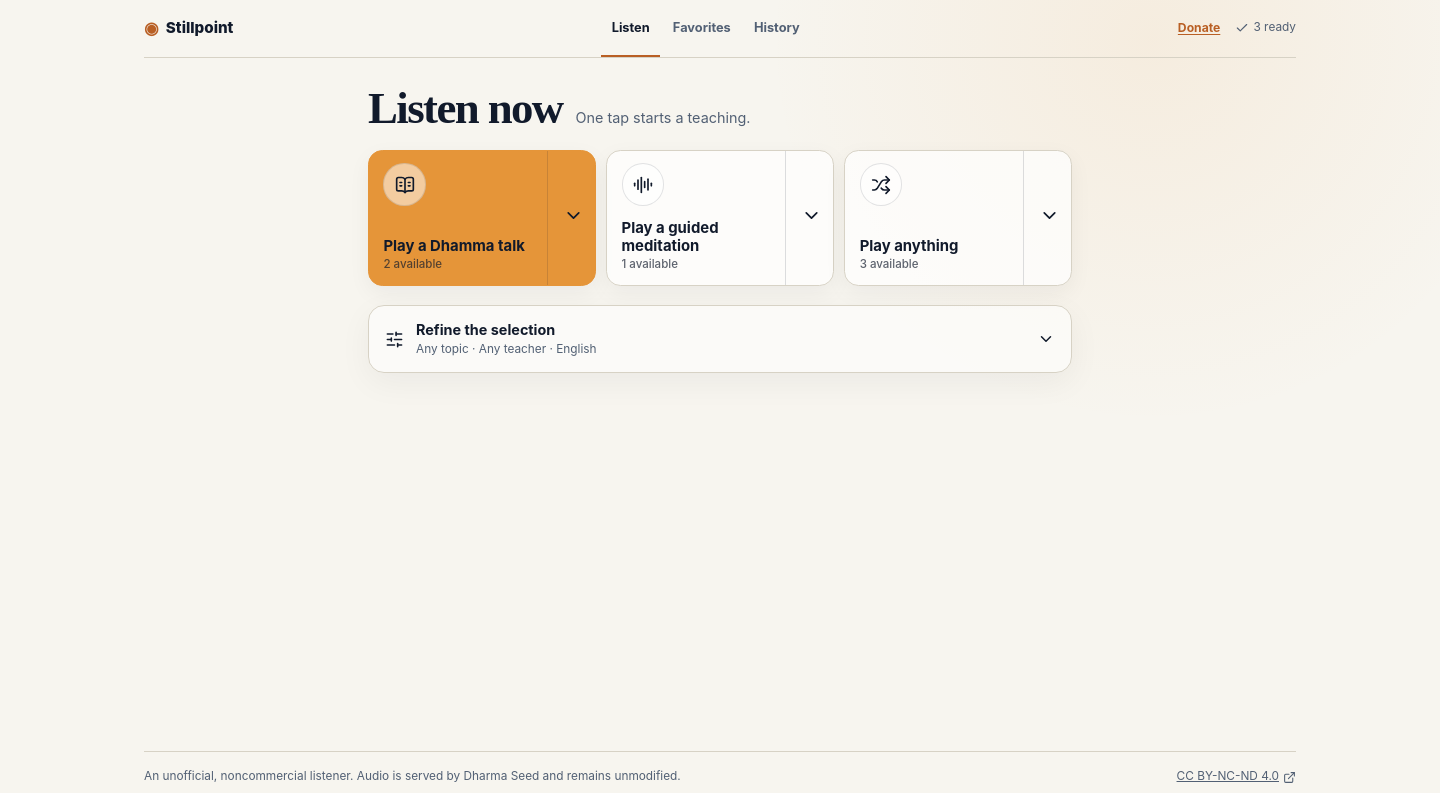
Test: ListenerApp › R6: keeps one-tap playback and favorites working when storage is full
This screenshot has width=1440, height=793.
Click the button "Play a Dhamma talk 2 available".
click(458, 218)  # box [369,151,547,285]
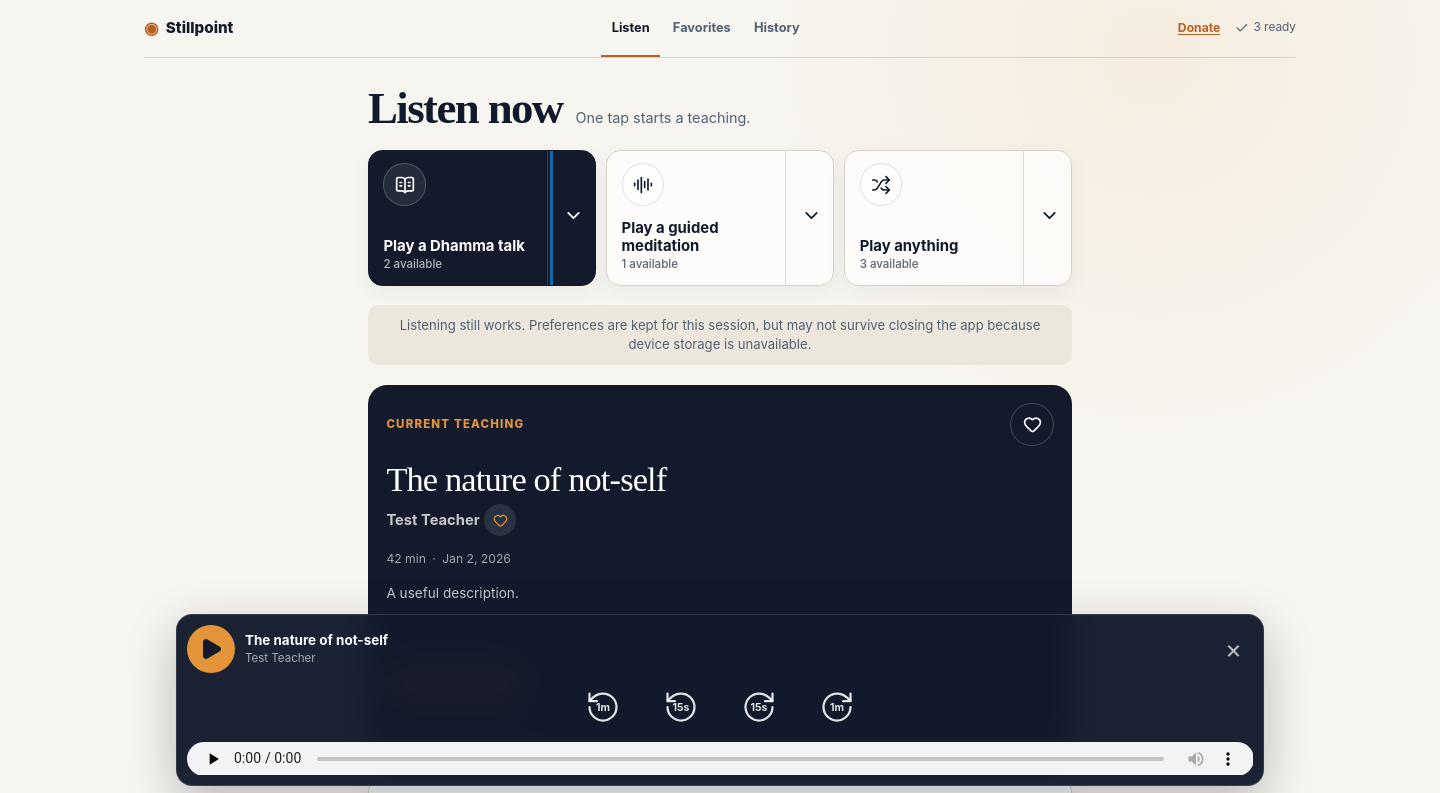
Now the message shows "Listening still works", box [400,317,1040,352]
Click the button named "Add to favorites".
click(1032, 424)  # box [1010,403,1054,446]
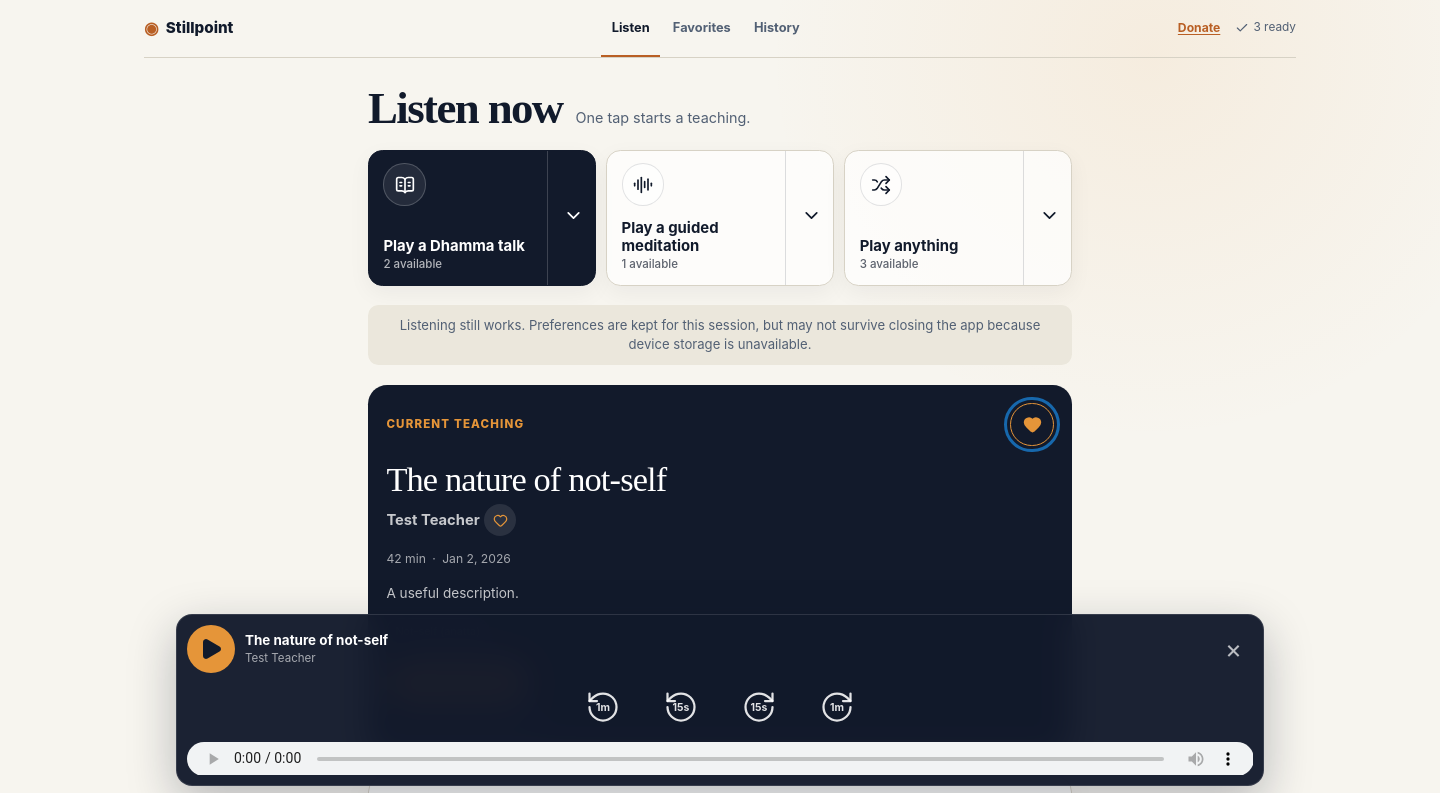
Now the button named "Remove from favorites" is shown
Click the button named "Remove from favorites".
click(1032, 424)  # box [1010,403,1054,446]
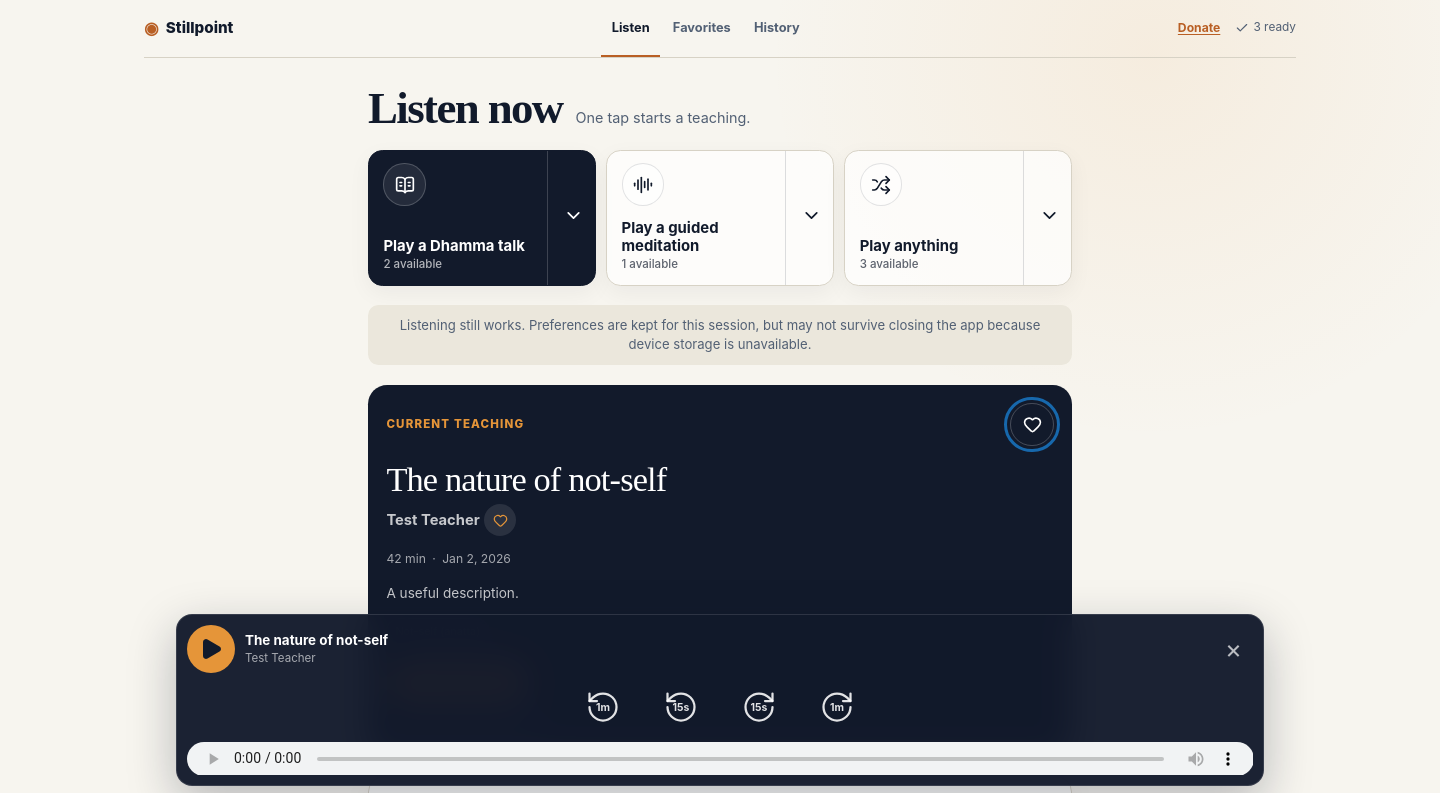
Now the button named "Add to favorites" is shown, box [1010,403,1054,446]
